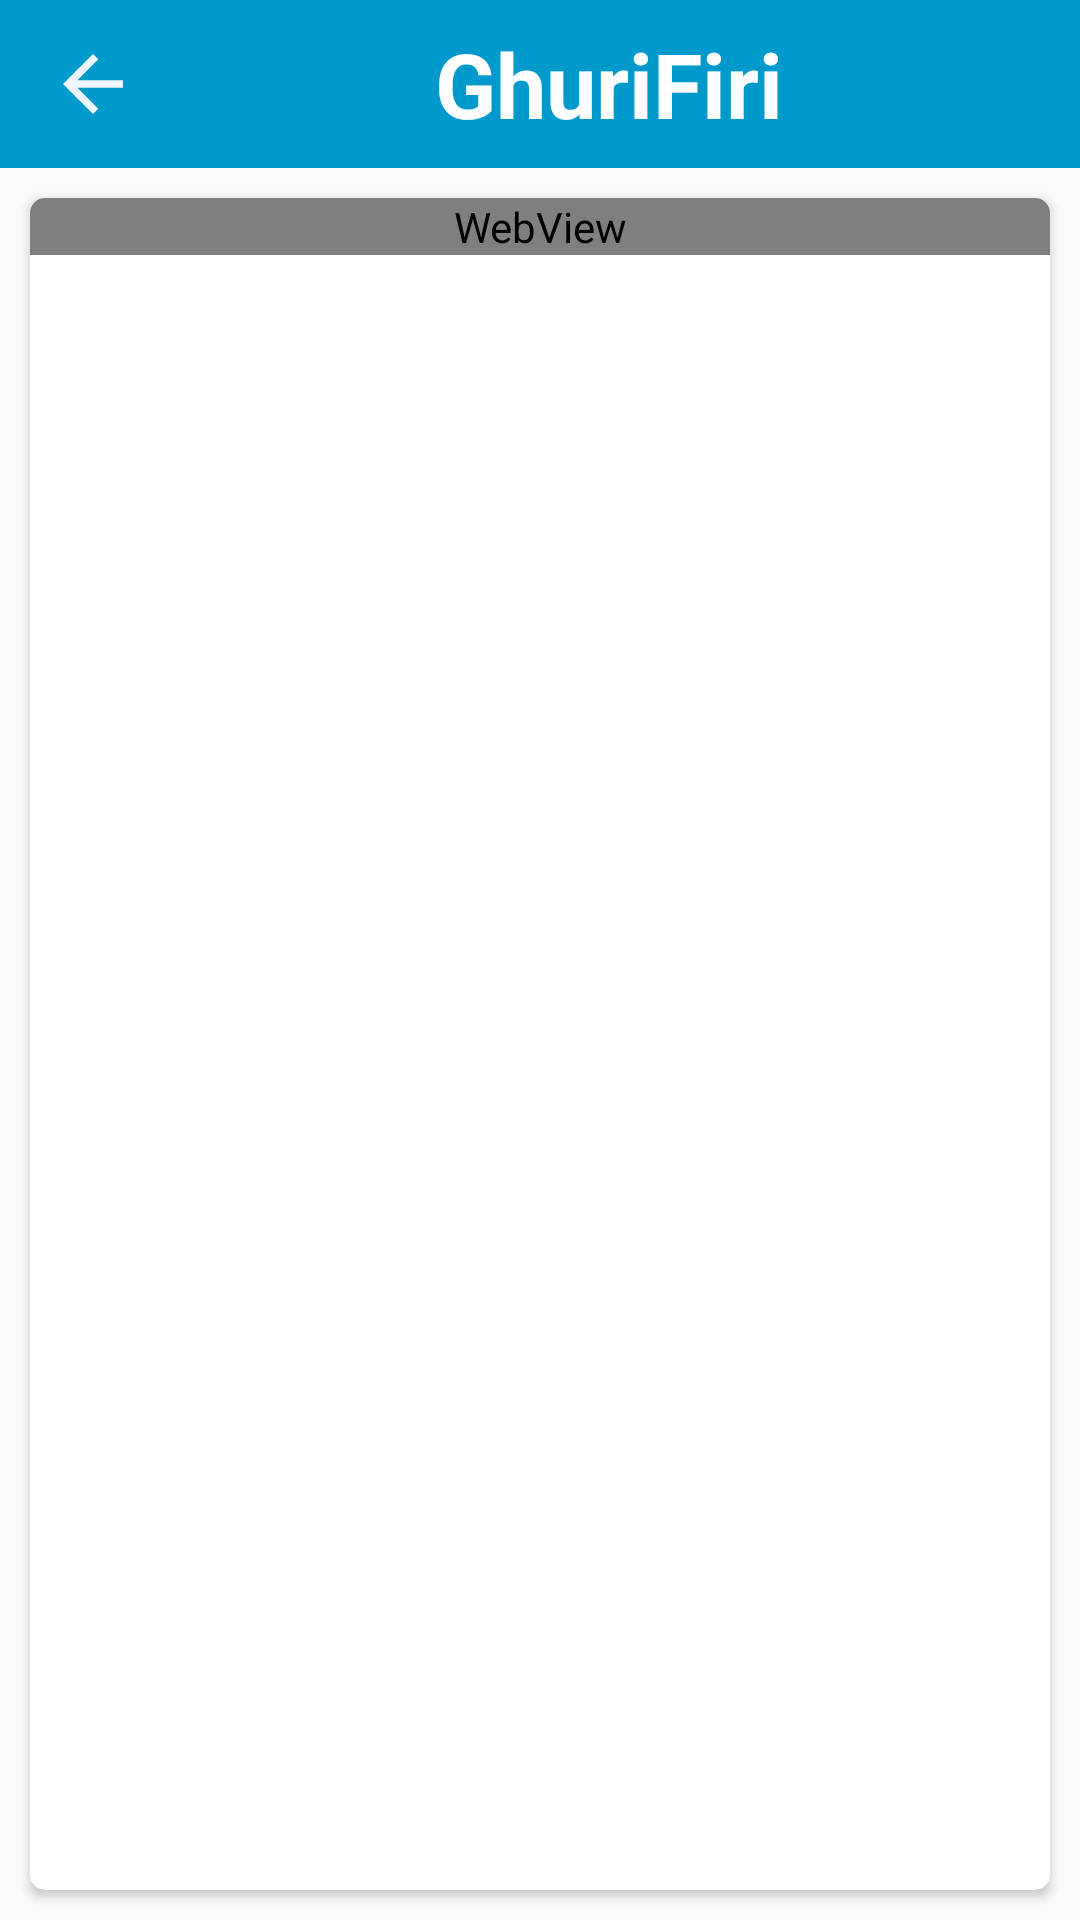

Where to tap for icons on this 1080 x 1920 app screen, as [x,y]:
arrow back: [93,84]
